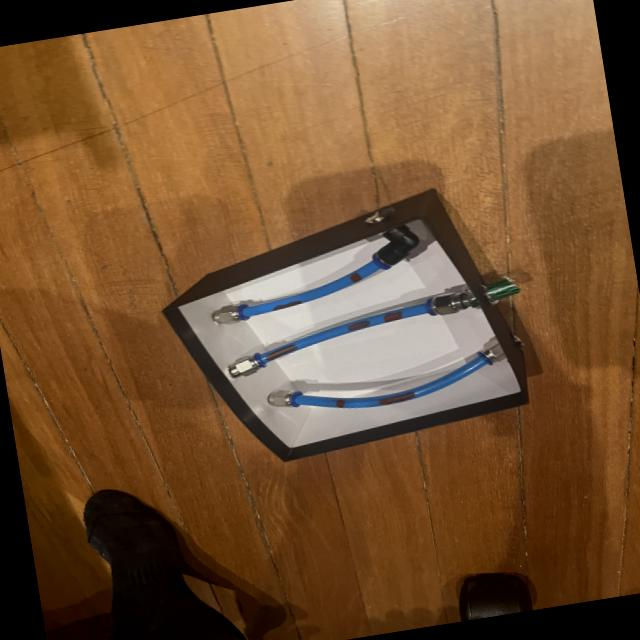hose_damage: (263, 342, 299, 363), (378, 391, 417, 406), (271, 298, 304, 312), (344, 319, 373, 333), (382, 310, 404, 323), (348, 270, 364, 284), (334, 399, 347, 409)
